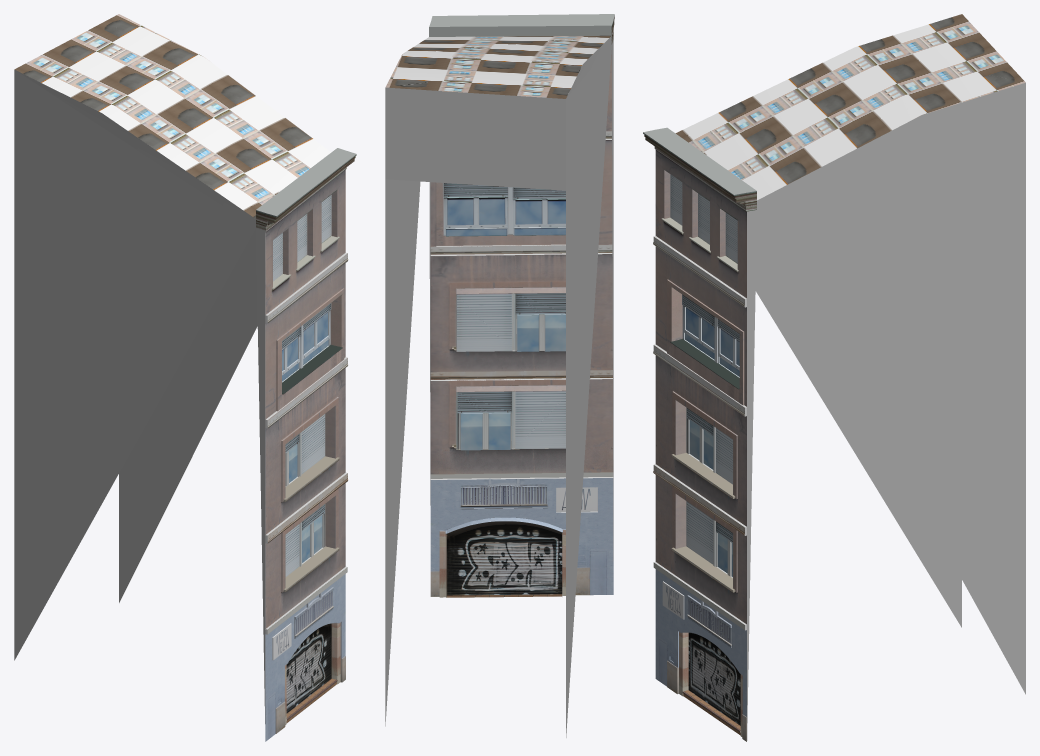
The model's file is miticavella.fbx.
3 renders of one model, left to right at view 1: azimuth 30°, elevation 25°; view 2: azimuth 150°, elevation 25°; view 3: azimuth 270°, elevation 25°, orthographic. The views are drawn at different scales.
Visible parts, largest first — view 1: polySurface399, polySurface376, polySurface400, polySurface377, polySurface395, polySurface396, polySurface397; view 2: polySurface376, polySurface377, polySurface399, polySurface400, polySurface395, polySurface396, polySurface397; view 3: polySurface400, polySurface376, polySurface399, polySurface377, polySurface395, polySurface396.
Part boxes in pixels (x1,y1,x2,y2): polySurface399: [14, 70, 265, 723]; polySurface376: [14, 14, 356, 543]; polySurface400: [119, 228, 257, 602]; polySurface377: [265, 566, 347, 741]; polySurface395: [265, 483, 345, 628]; polySurface396: [285, 504, 325, 576]; polySurface397: [331, 622, 340, 684]; polySurface376: [385, 14, 614, 380]; polySurface377: [430, 472, 613, 597]; polySurface399: [566, 40, 613, 737]; polySurface400: [385, 179, 430, 726]; polySurface395: [430, 379, 613, 474]; polySurface396: [456, 390, 565, 450]; polySurface397: [439, 531, 446, 597]; polySurface400: [747, 83, 1025, 740]; polySurface376: [643, 14, 1025, 535]; polySurface399: [755, 210, 961, 627]; polySurface377: [653, 562, 746, 741]; polySurface395: [655, 475, 746, 624]; polySurface396: [686, 501, 732, 577].
Bounding box in the file's own units: 786 × 1911 × 1079.
